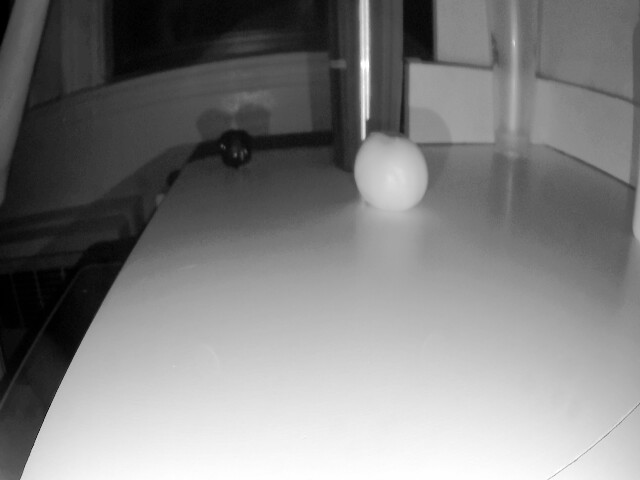black: (211, 125, 263, 166)
